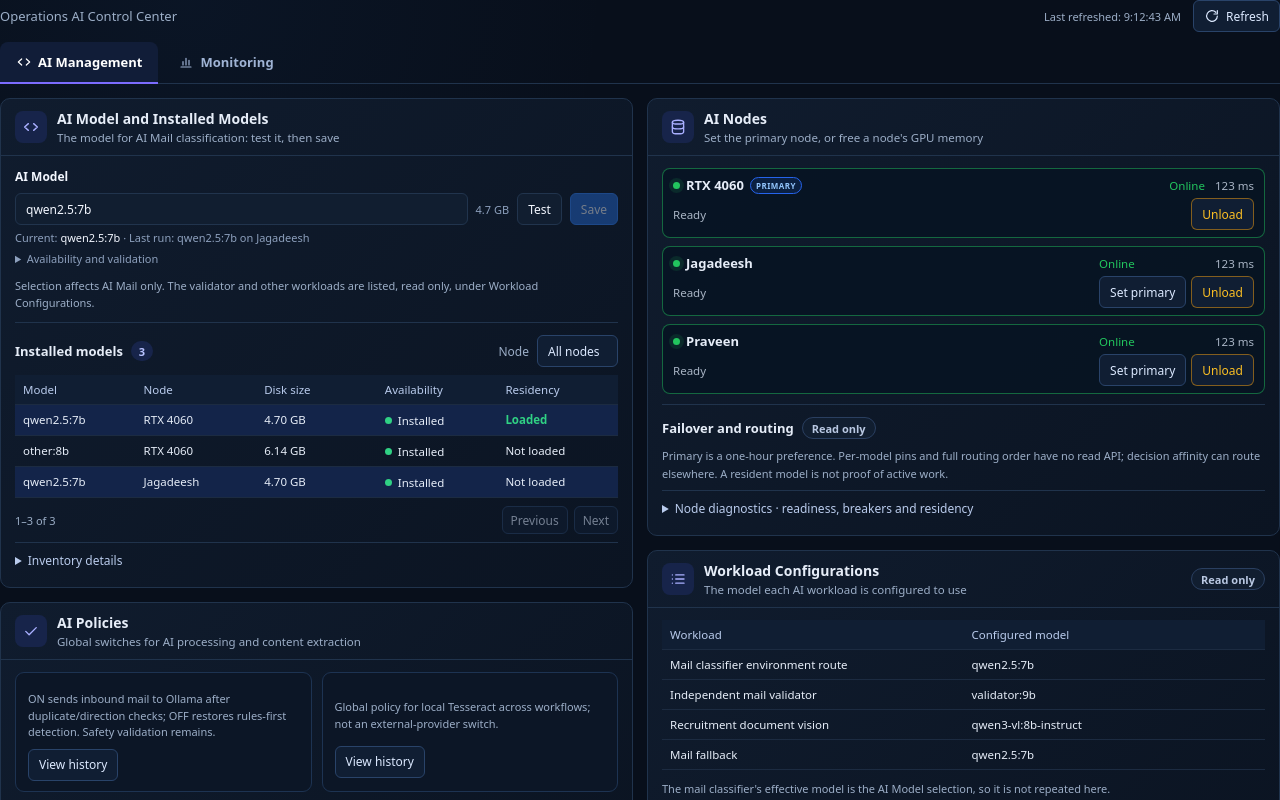
Test: AI Controls: two tabs › shows each panel on its own tab only
Expected: the text "Last run: qwen2.5:7b on Jagadeesh" is shown, [129, 230, 310, 245]
Expected: the heading "AI Model and Installed Models" is shown, [57, 109, 268, 128]
Click the button "Monitoring": (226, 63) [162, 42, 290, 84]
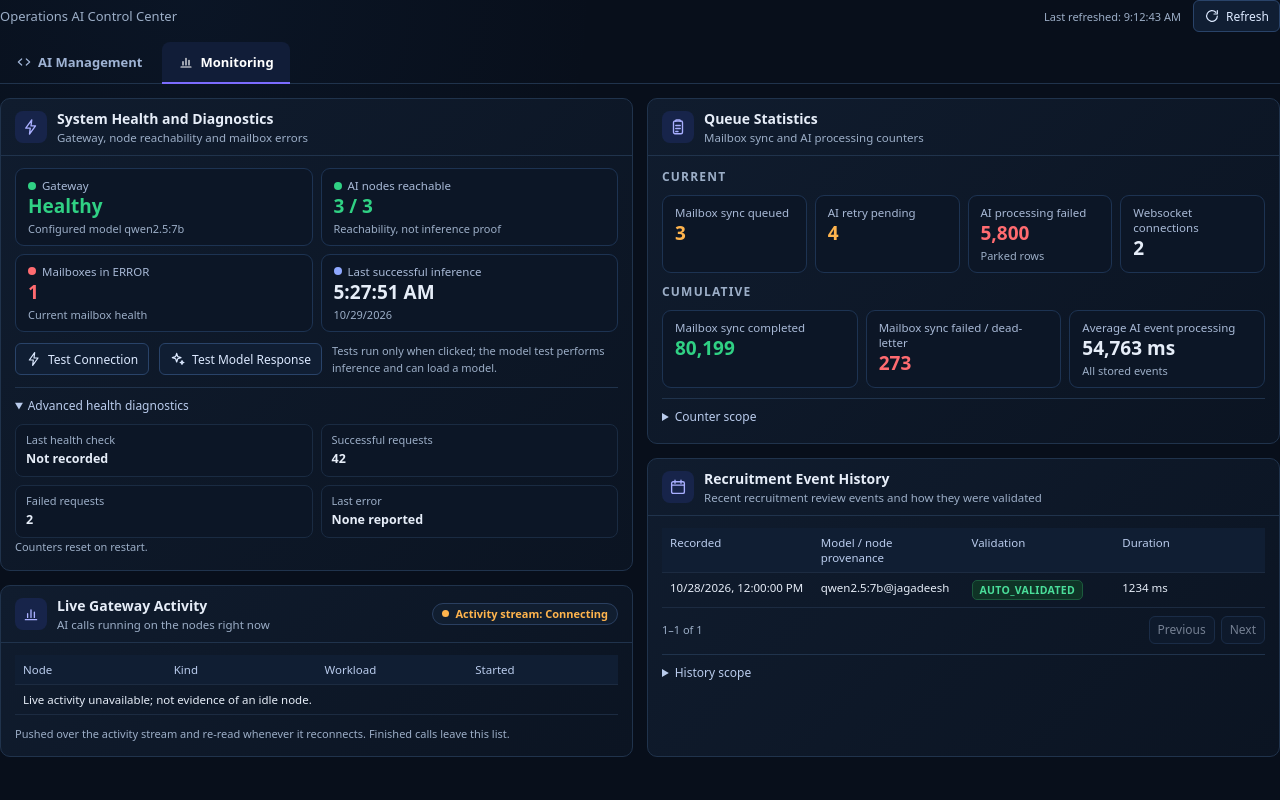
Expected: the heading "System Health and Diagnostics" is shown, [57, 109, 273, 128]
Expected: the heading "Queue Statistics" is shown, [704, 109, 818, 128]
Expected: the heading "Live Gateway Activity" is shown, [57, 596, 207, 615]
